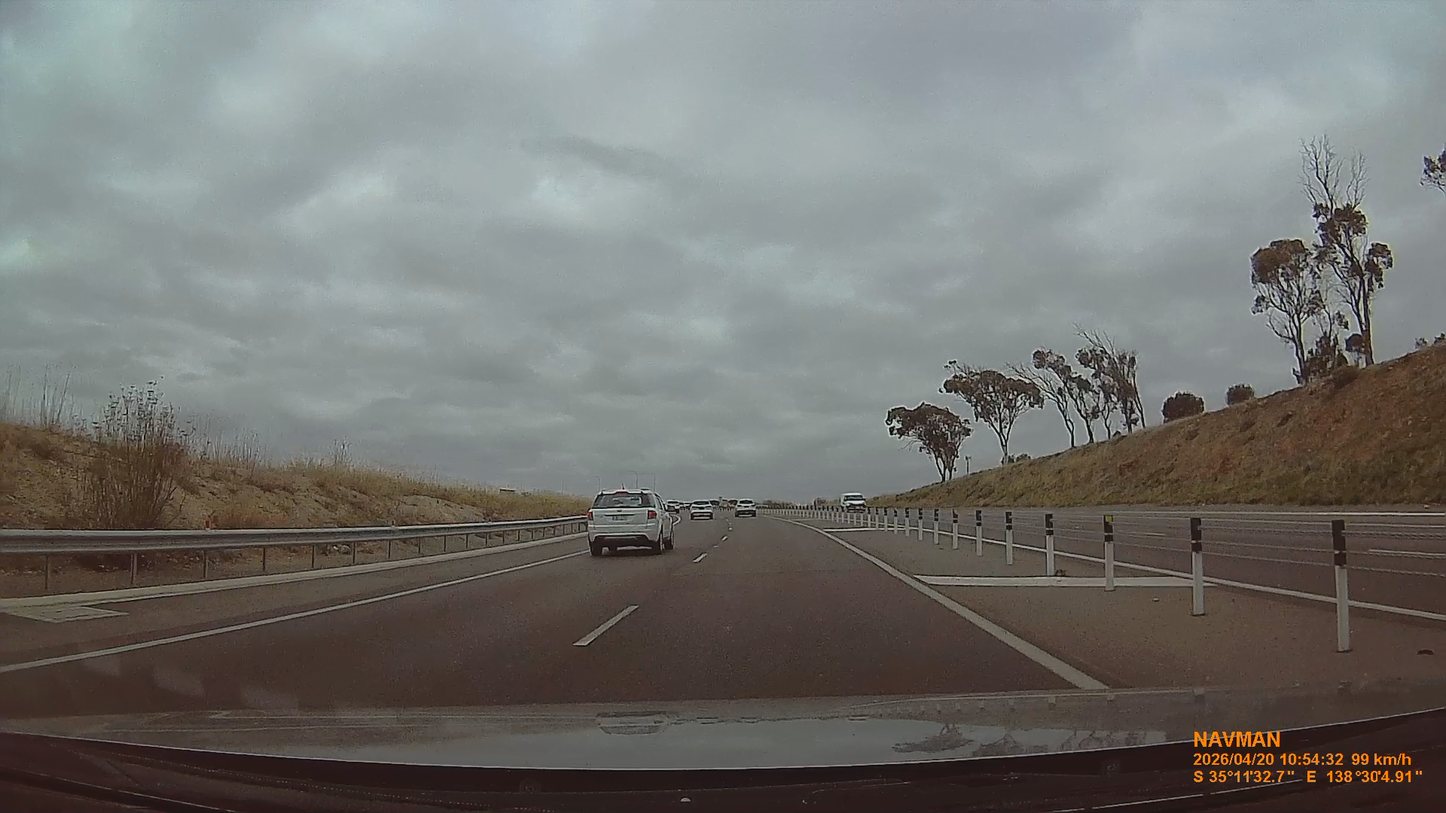road barriers: (3, 516, 575, 596), (1330, 519, 1351, 653), (1189, 517, 1206, 614), (1103, 514, 1116, 592), (1043, 513, 1057, 577), (1004, 511, 1013, 564), (950, 509, 959, 549), (975, 510, 982, 554)
